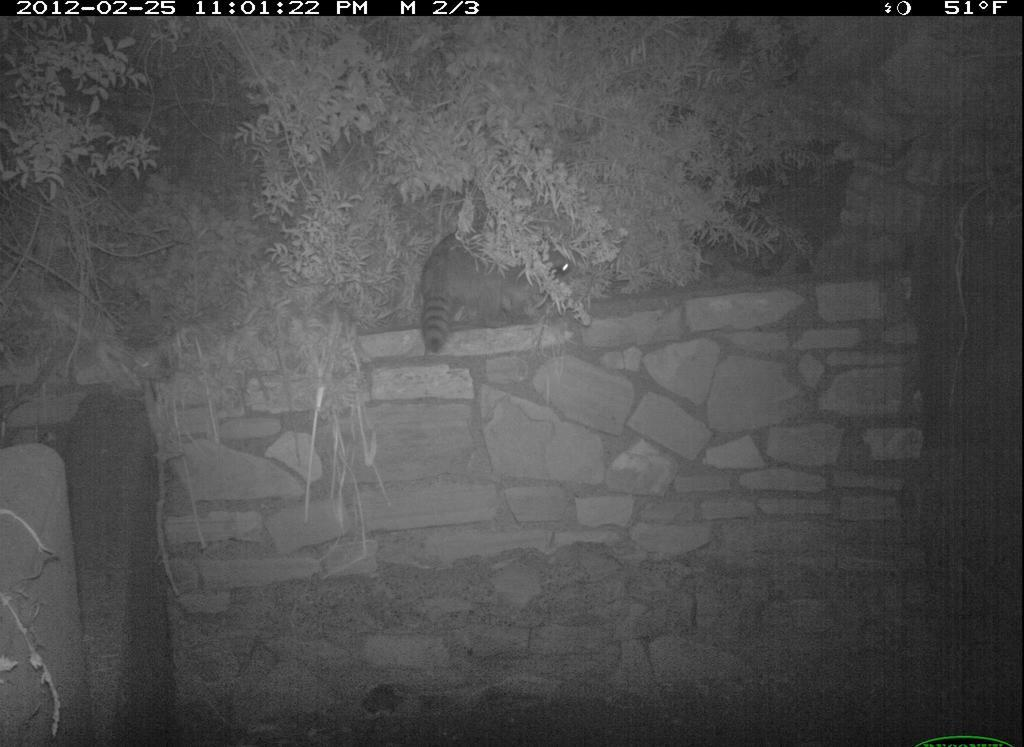raccoon: (404, 208, 594, 369)
